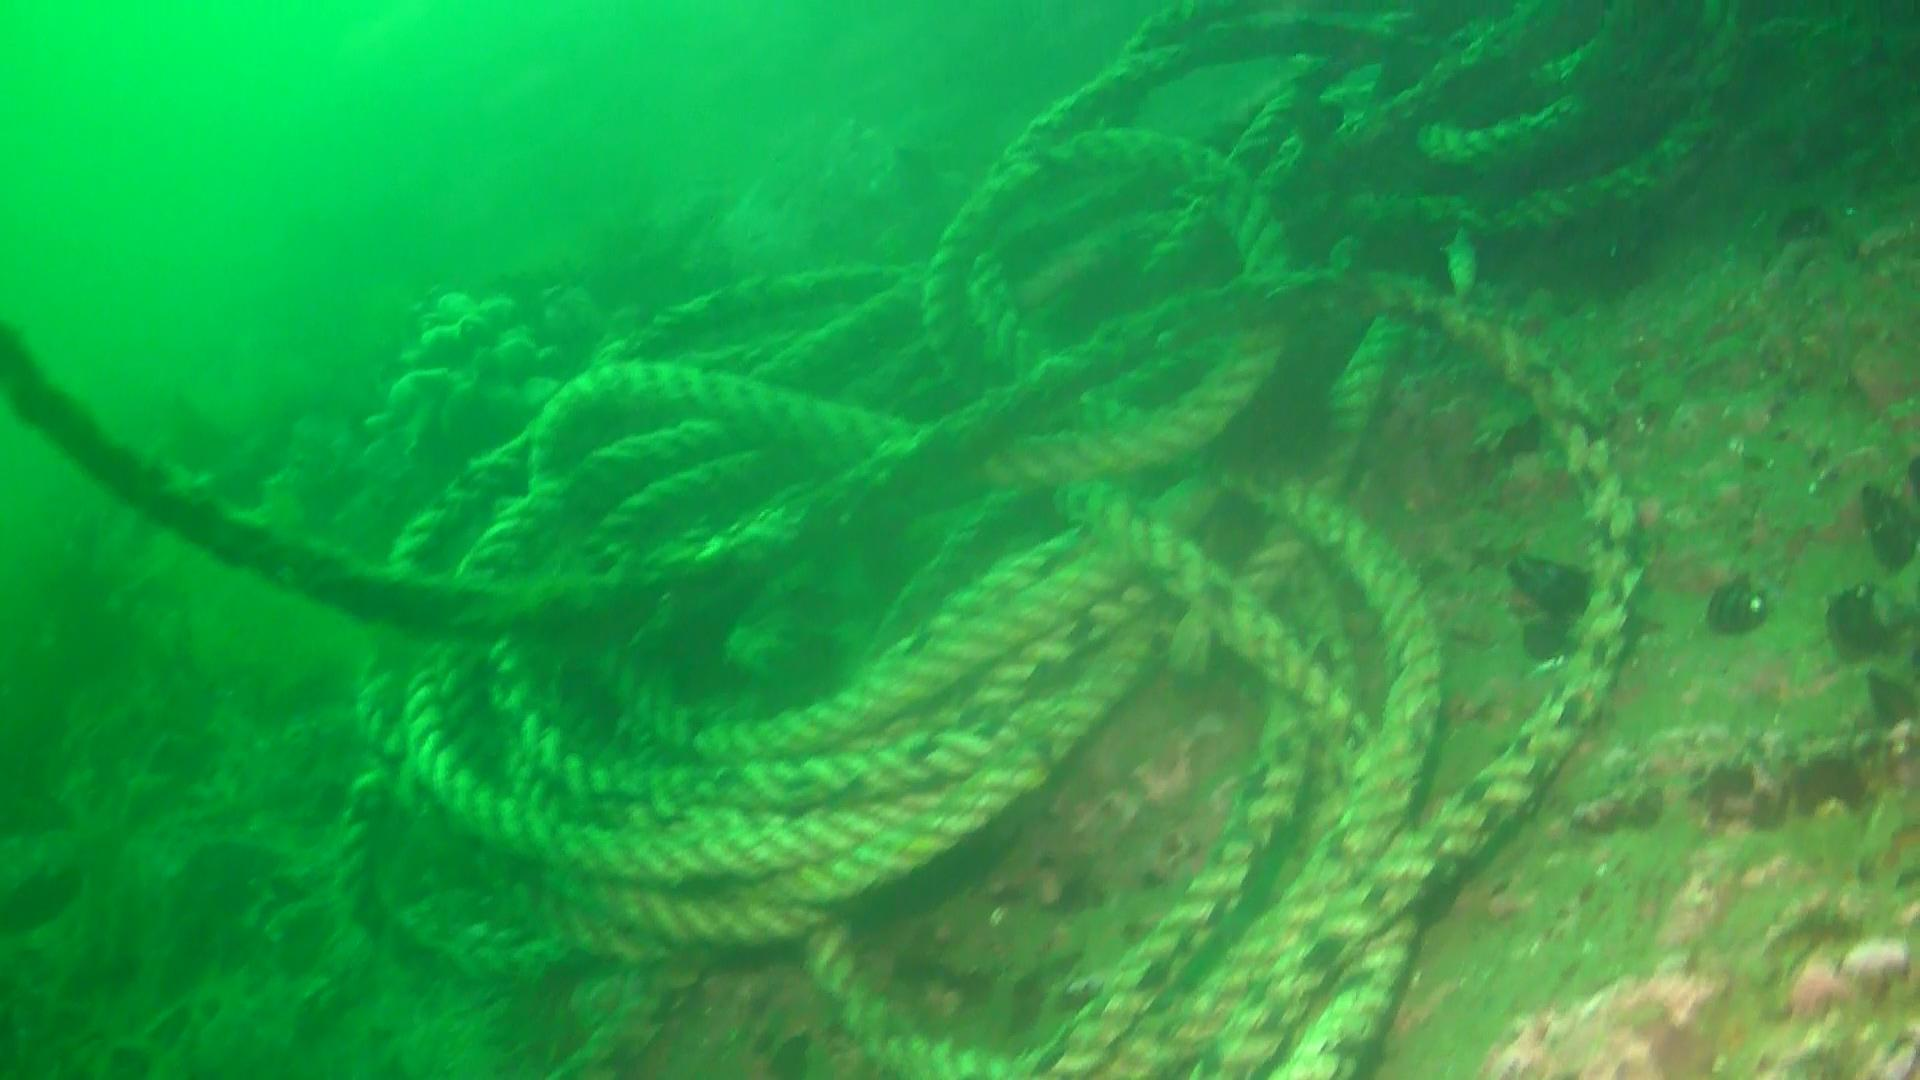bundle of ropes: (0, 0, 1749, 1080)
